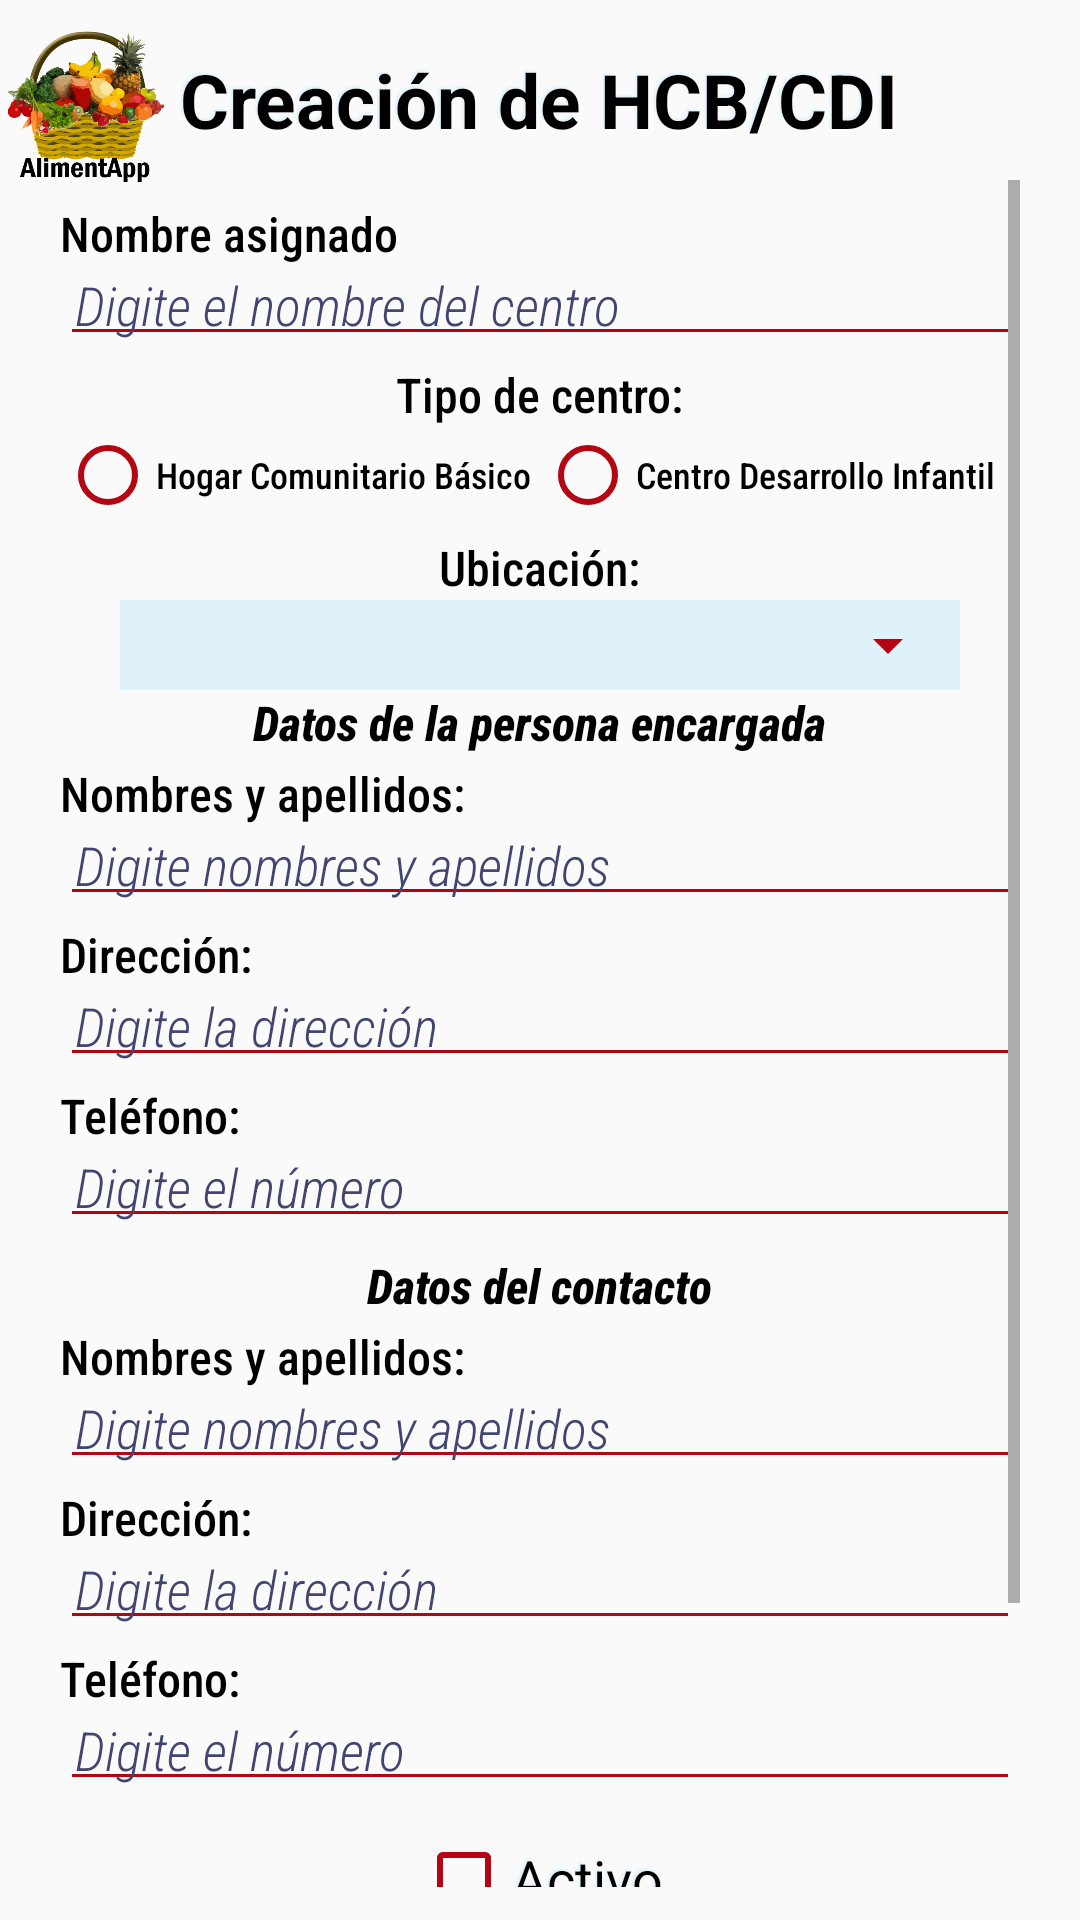

Where icons sit on this 1080px x 1920px app screen, as (x1, y1, x2, y2):
iconosuperior: (8, 31, 165, 182)
